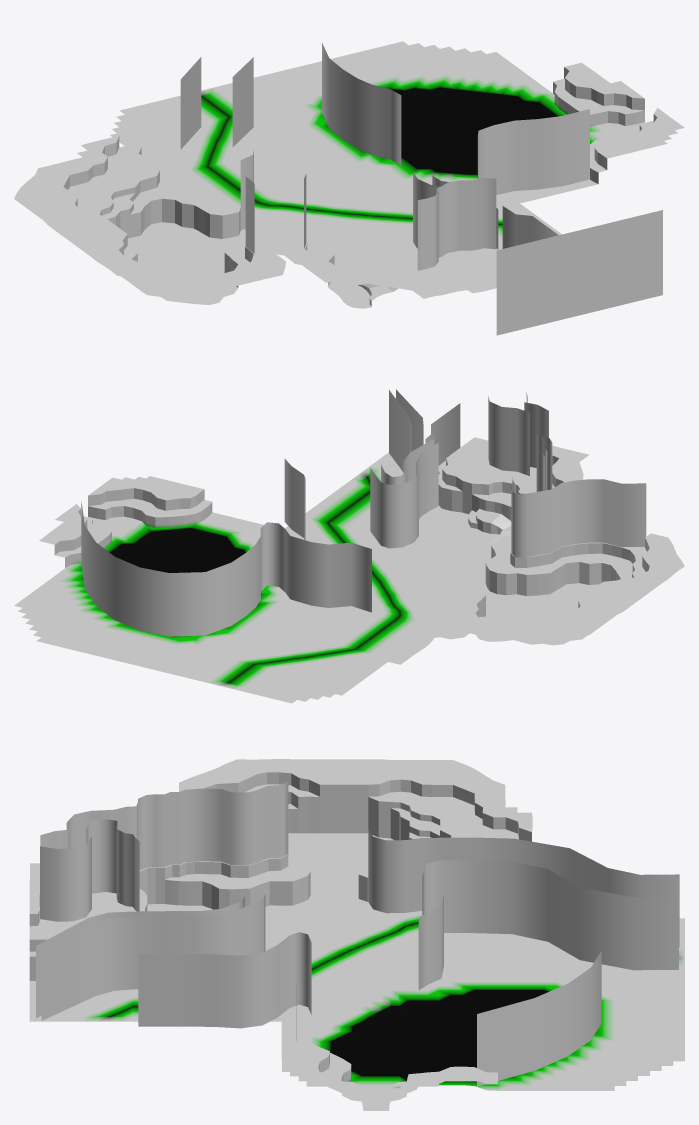
File: level-hub.glb
3 views of the same model, one above another, from view 1: azimuth 30°, elevation 25°; view 2: azimuth 150°, elevation 25°; view 3: azimuth 270°, elevation 25° (orthographic). The views are drawn at different scales.
Parts seen in each view (by area): view 1: level-hub, level-hub-tree-wall; view 2: level-hub, level-hub-tree-wall; view 3: level-hub, level-hub-tree-wall.
Part boxes in pixels (bbox=[...]): level-hub: bbox=[14, 41, 684, 308]; level-hub-tree-wall: bbox=[180, 43, 662, 335]; level-hub: bbox=[14, 437, 684, 703]; level-hub-tree-wall: bbox=[81, 389, 646, 636]; level-hub: bbox=[29, 759, 684, 1110]; level-hub-tree-wall: bbox=[36, 781, 679, 1086].
Bounding box in the file's own units: 215 × 37 × 201.
